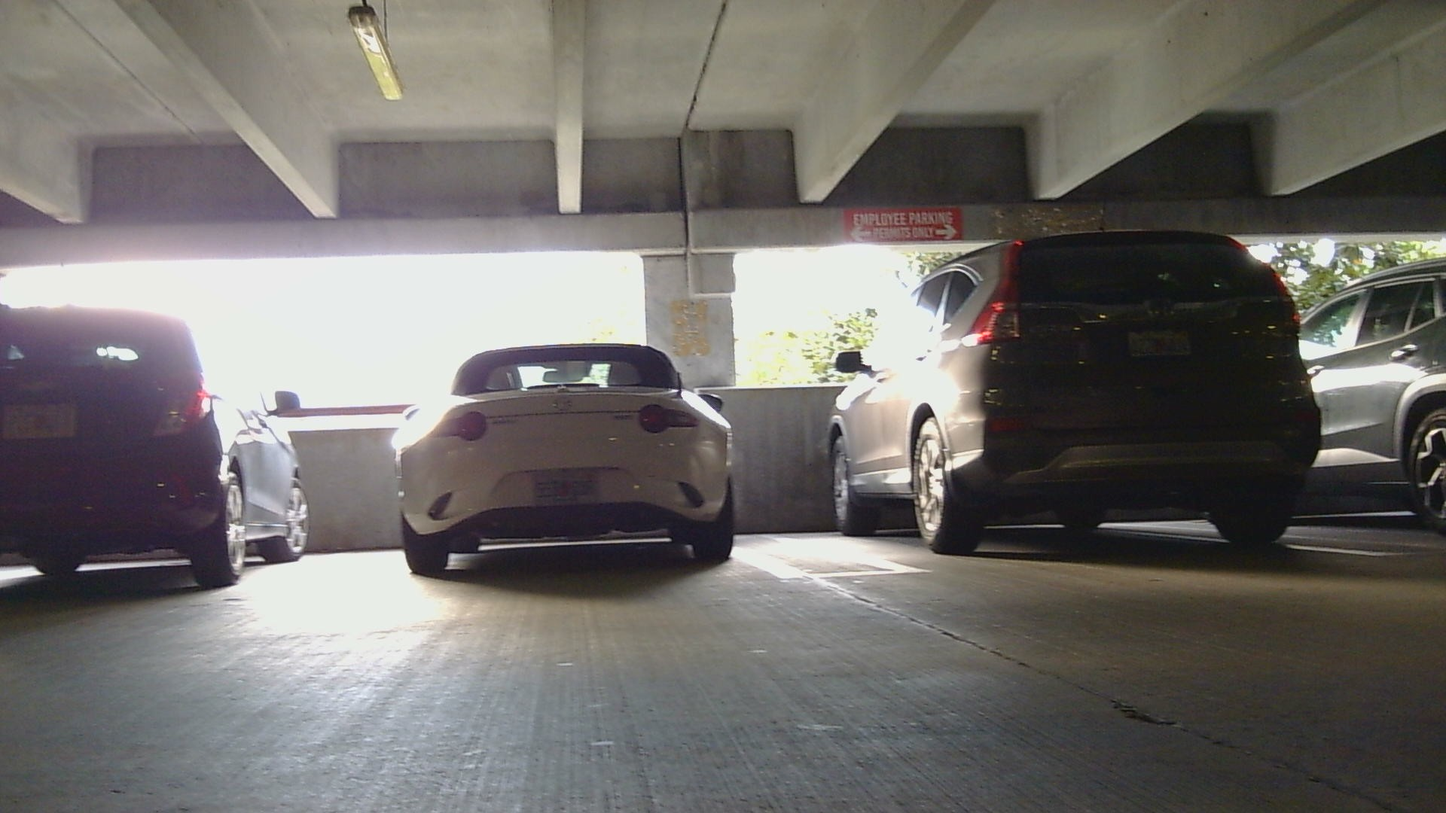occupied_spot: (809, 206, 1341, 577), (374, 323, 745, 591), (0, 304, 311, 604), (1286, 251, 1445, 538)
